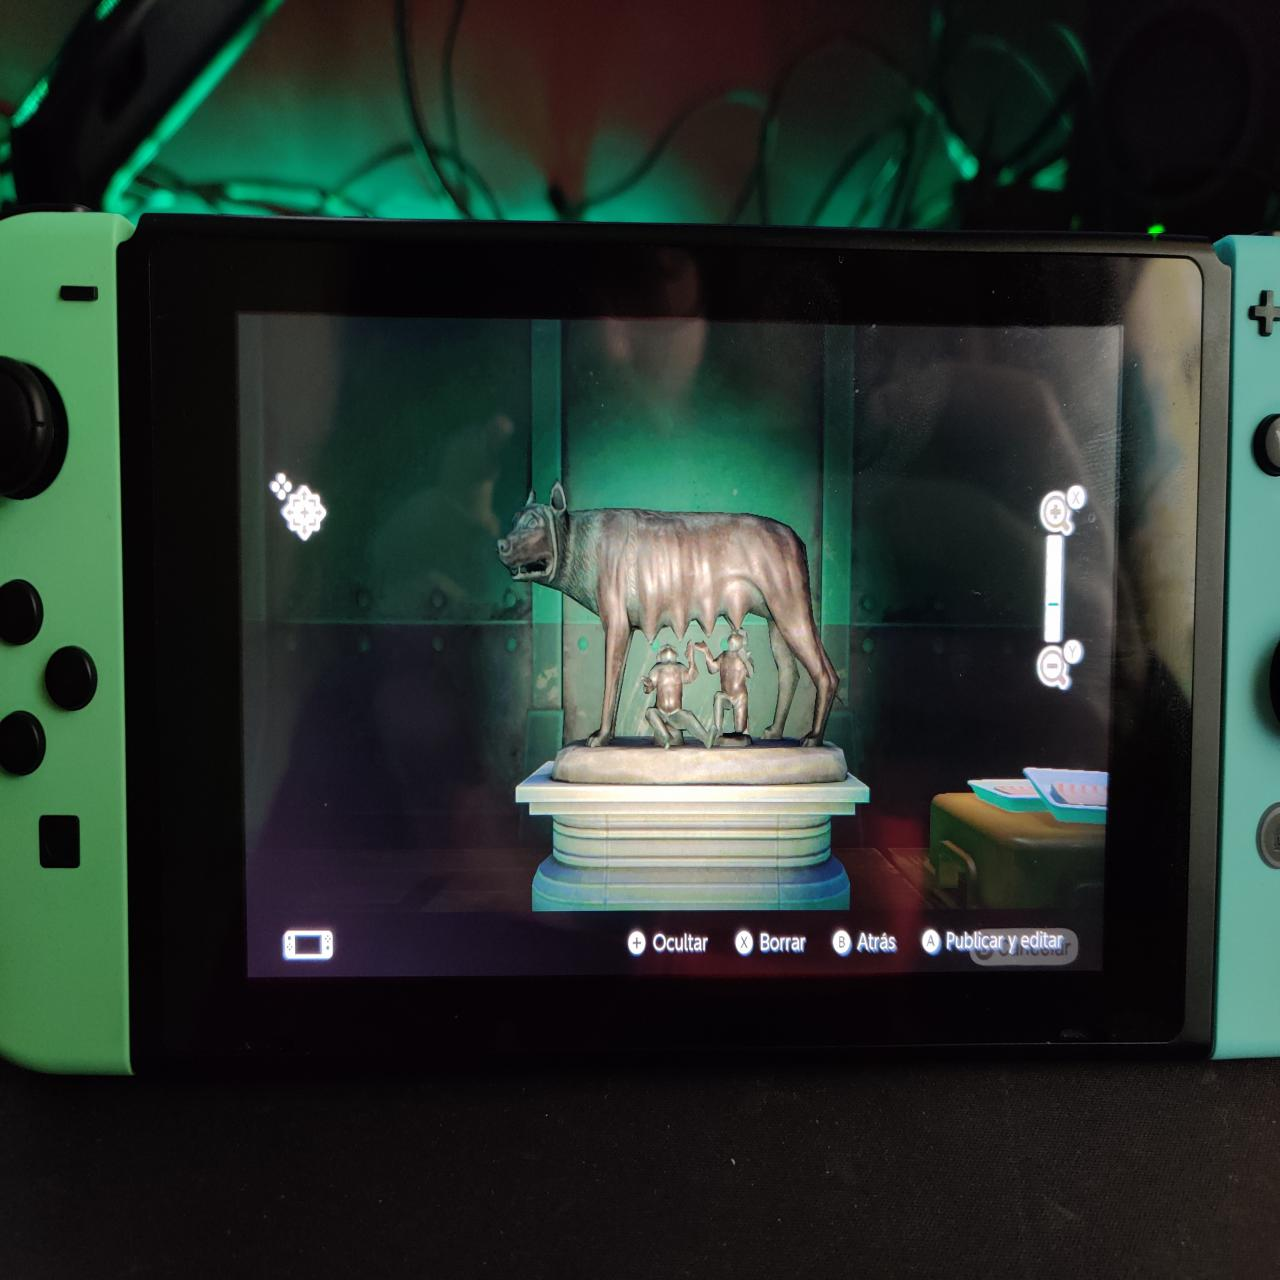Capitolini: (493, 474, 873, 796)
